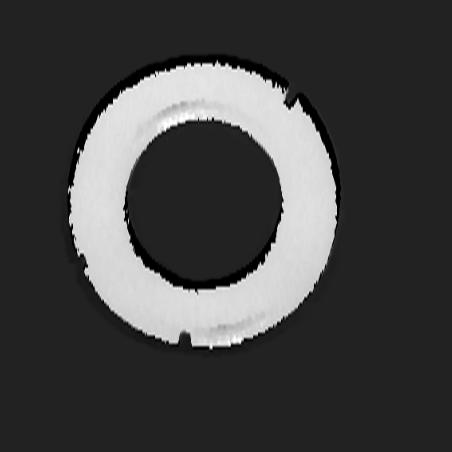defect: (283, 88, 298, 111), (177, 329, 193, 347), (79, 252, 89, 270)
